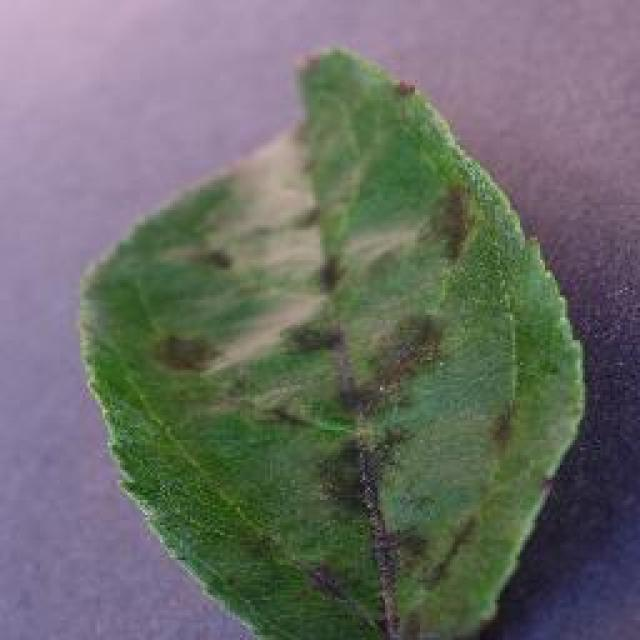apple scab disease: (75, 42, 587, 638)
